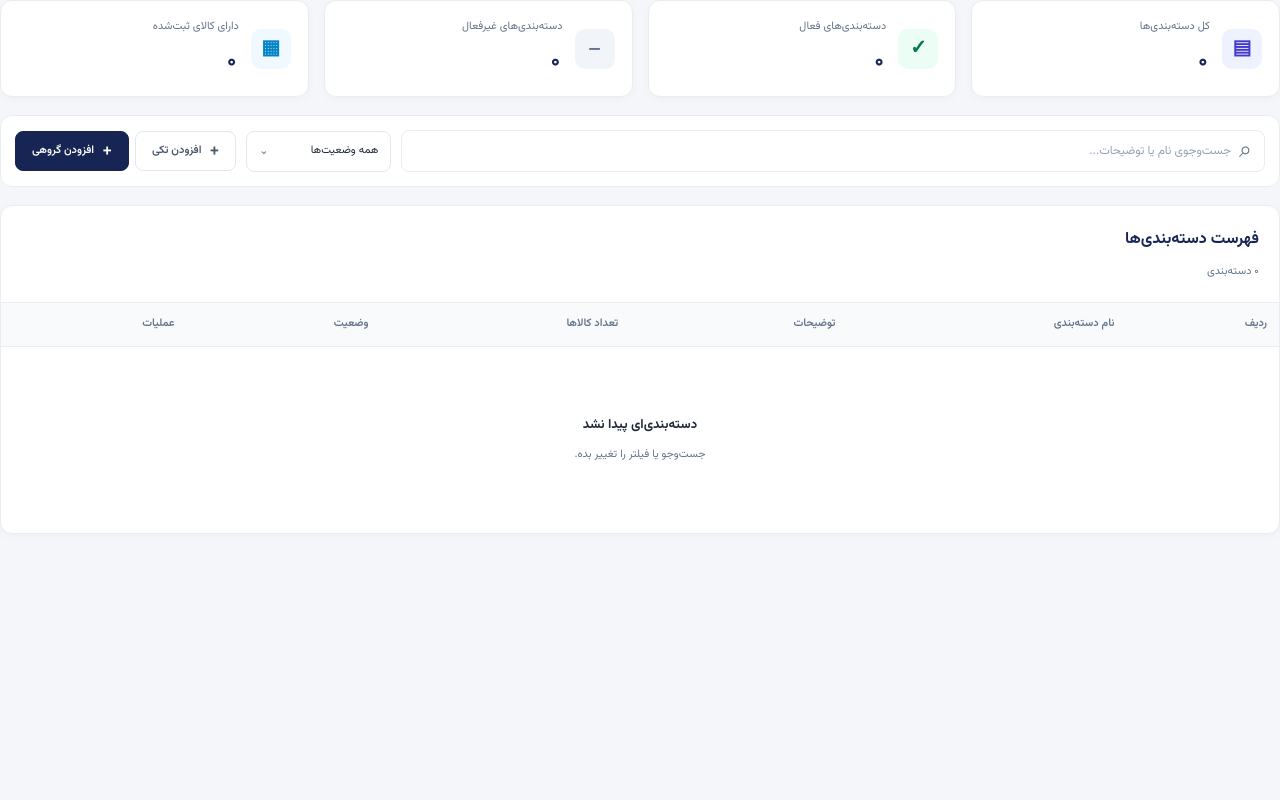
Test case: آزمون اولیه بارگذاری صفحات حساب‌یار › ثبت تکی دسته‌بندی را از فرم تا فراخوانی API آزمایش می‌کند
Click the button "+ افزودن تکی": (186, 151) top-left (135, 131), bottom-right (236, 171)
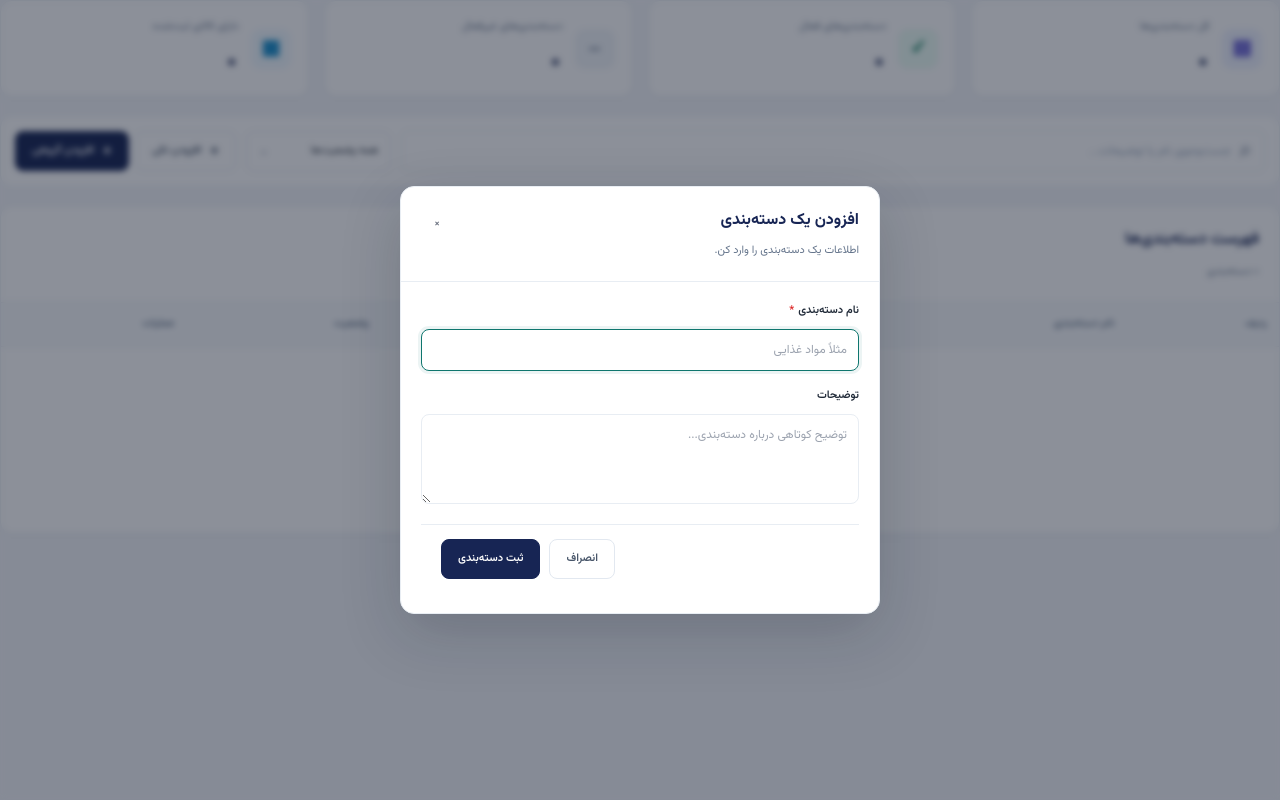
In the field labelled "نام دسته‌بندی *": (640, 350) top-left (421, 329), bottom-right (859, 371), type "نوشیدنی‌ها"
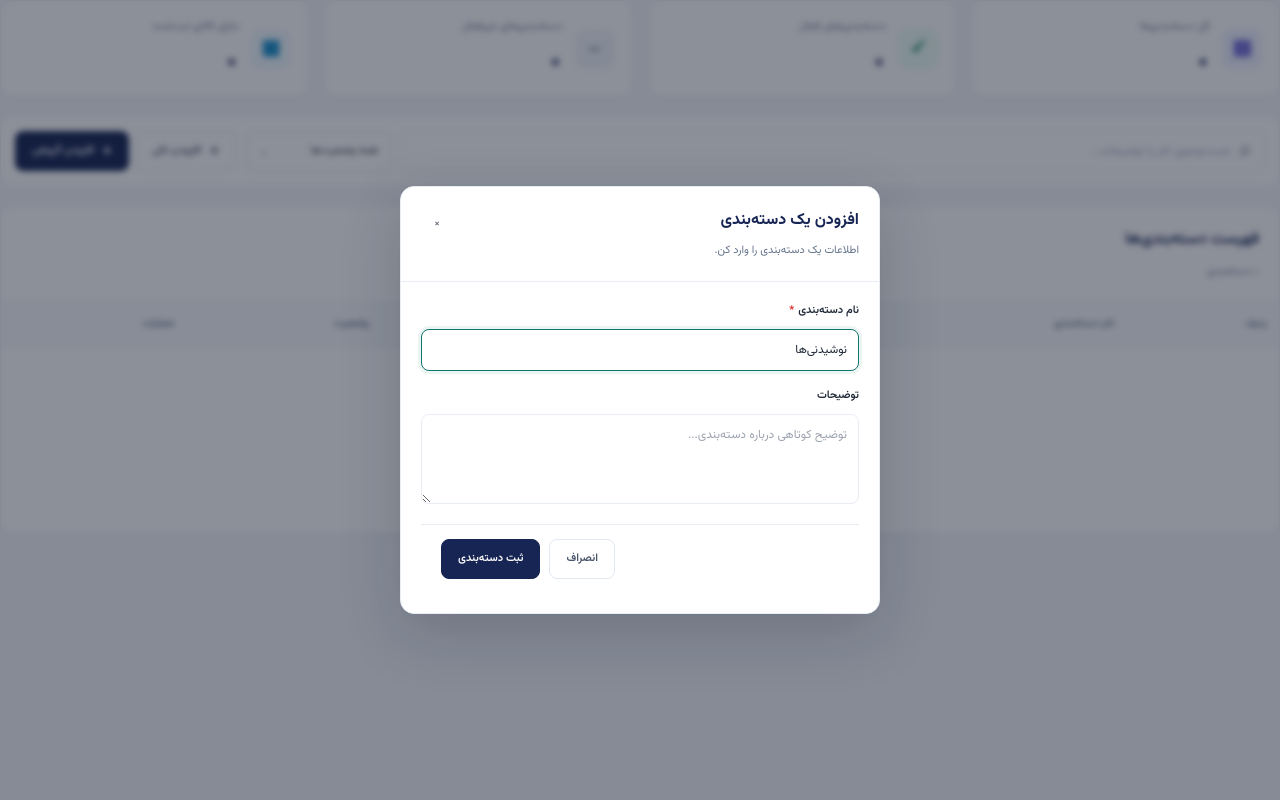
In the text box labelled "توضیحات": (640, 459) top-left (421, 414), bottom-right (859, 504), type "دسته آزمایشی"
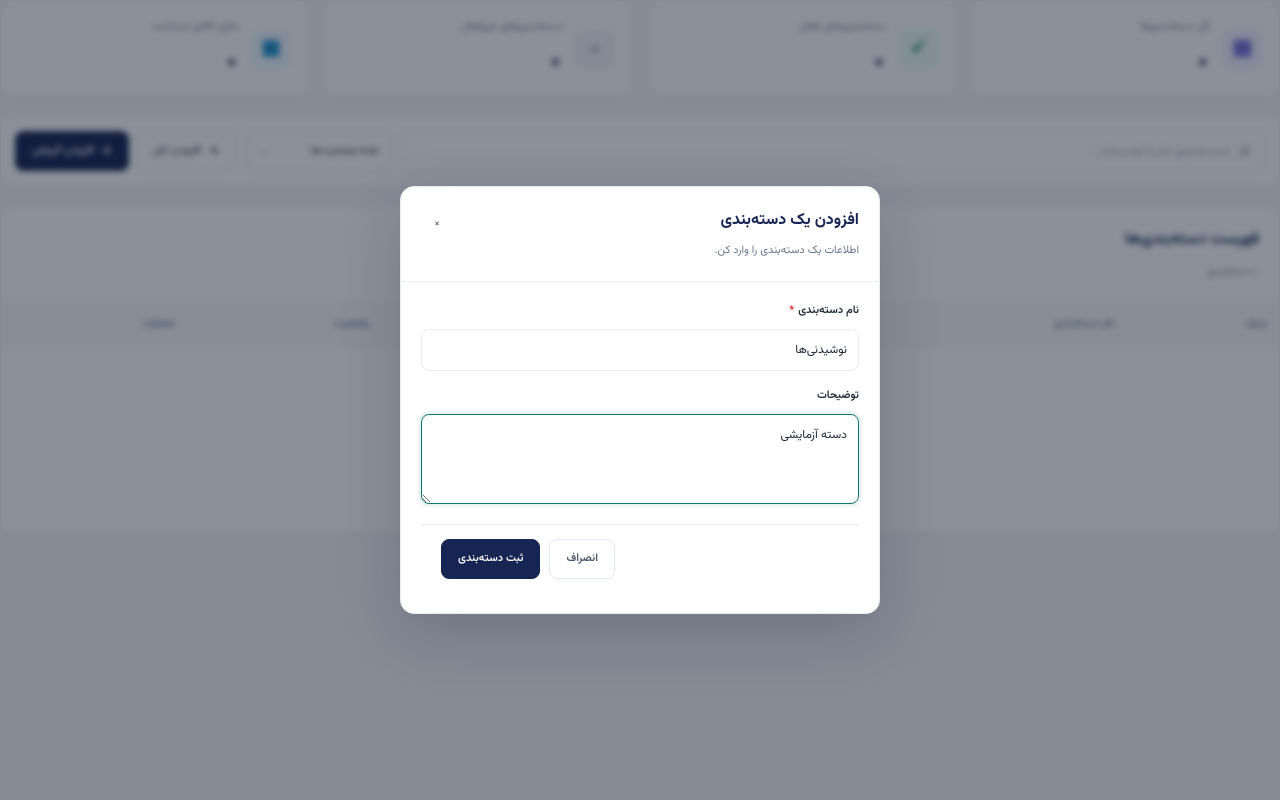
Click the button "ثبت دسته‌بندی": (491, 559) top-left (441, 539), bottom-right (540, 579)
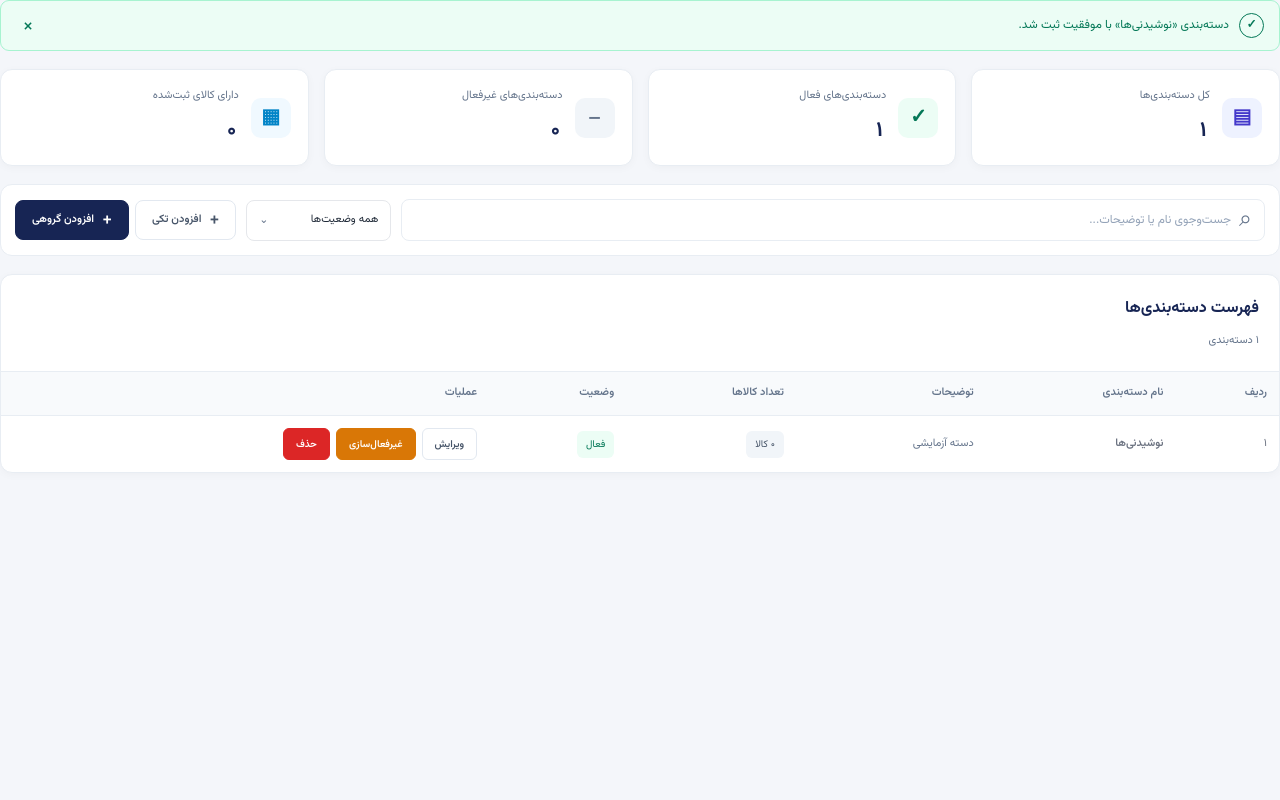
Now the text "دسته‌بندی «نوشیدنی‌ها» با موفقیت ثبت شد." is shown, box top-left (1019, 16), bottom-right (1229, 34)
